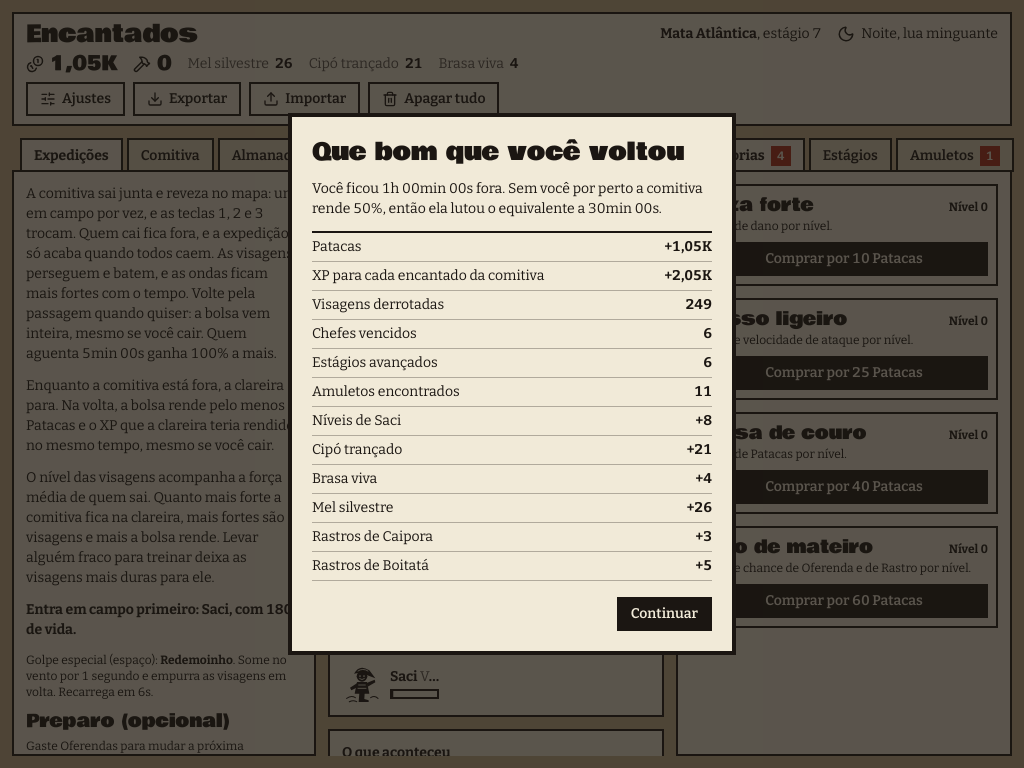
Scenario: janelas automáticas › dá as boas-vindas de volta ao abrir depois de uma ausência
This screenshot has width=1024, height=768.
Expected: the dialog shows "1h 00min 00s fora", x1=312 y1=180 x2=703 y2=217
Expected: the dialog shows "30min 00s", x1=312 y1=180 x2=703 y2=217
Click the button "Continuar" at (664, 614), box x1=617 y1=597 x2=712 y2=631
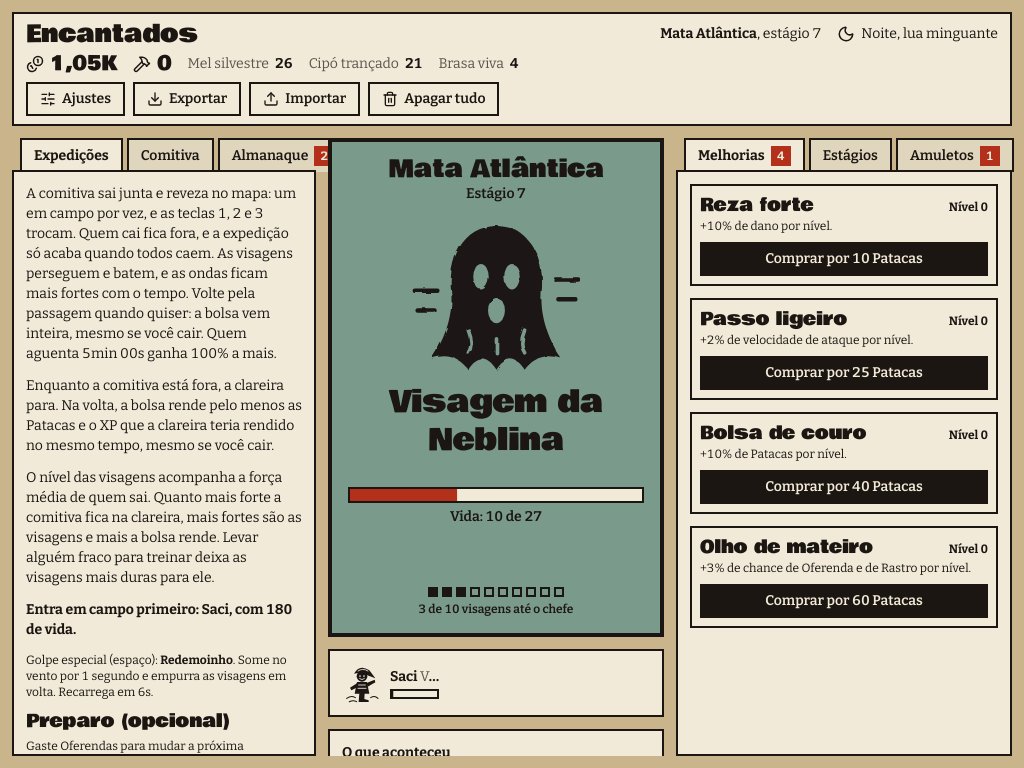
Expected: the heading "Que bom que você voltou" is gone
